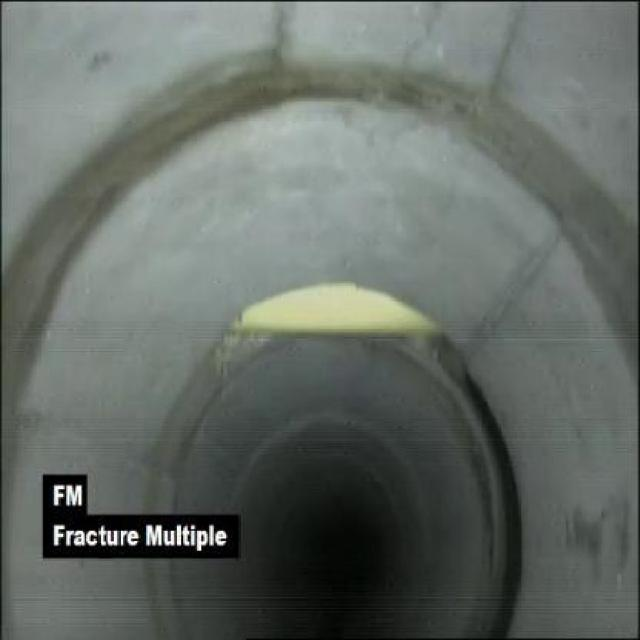Crack: (398, 1, 474, 74), (495, 5, 528, 90), (266, 3, 296, 65)
Utility intrusion: (222, 277, 449, 343)
